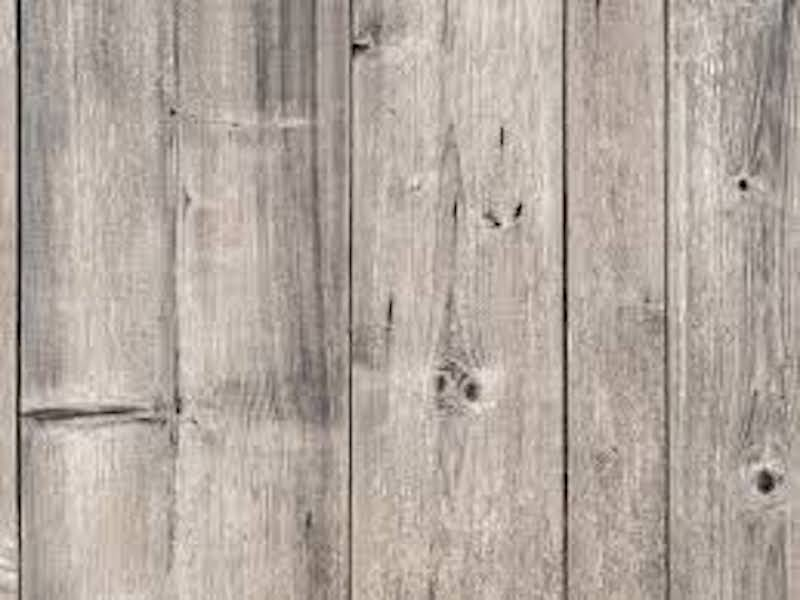combustible: (59, 25, 667, 470)
